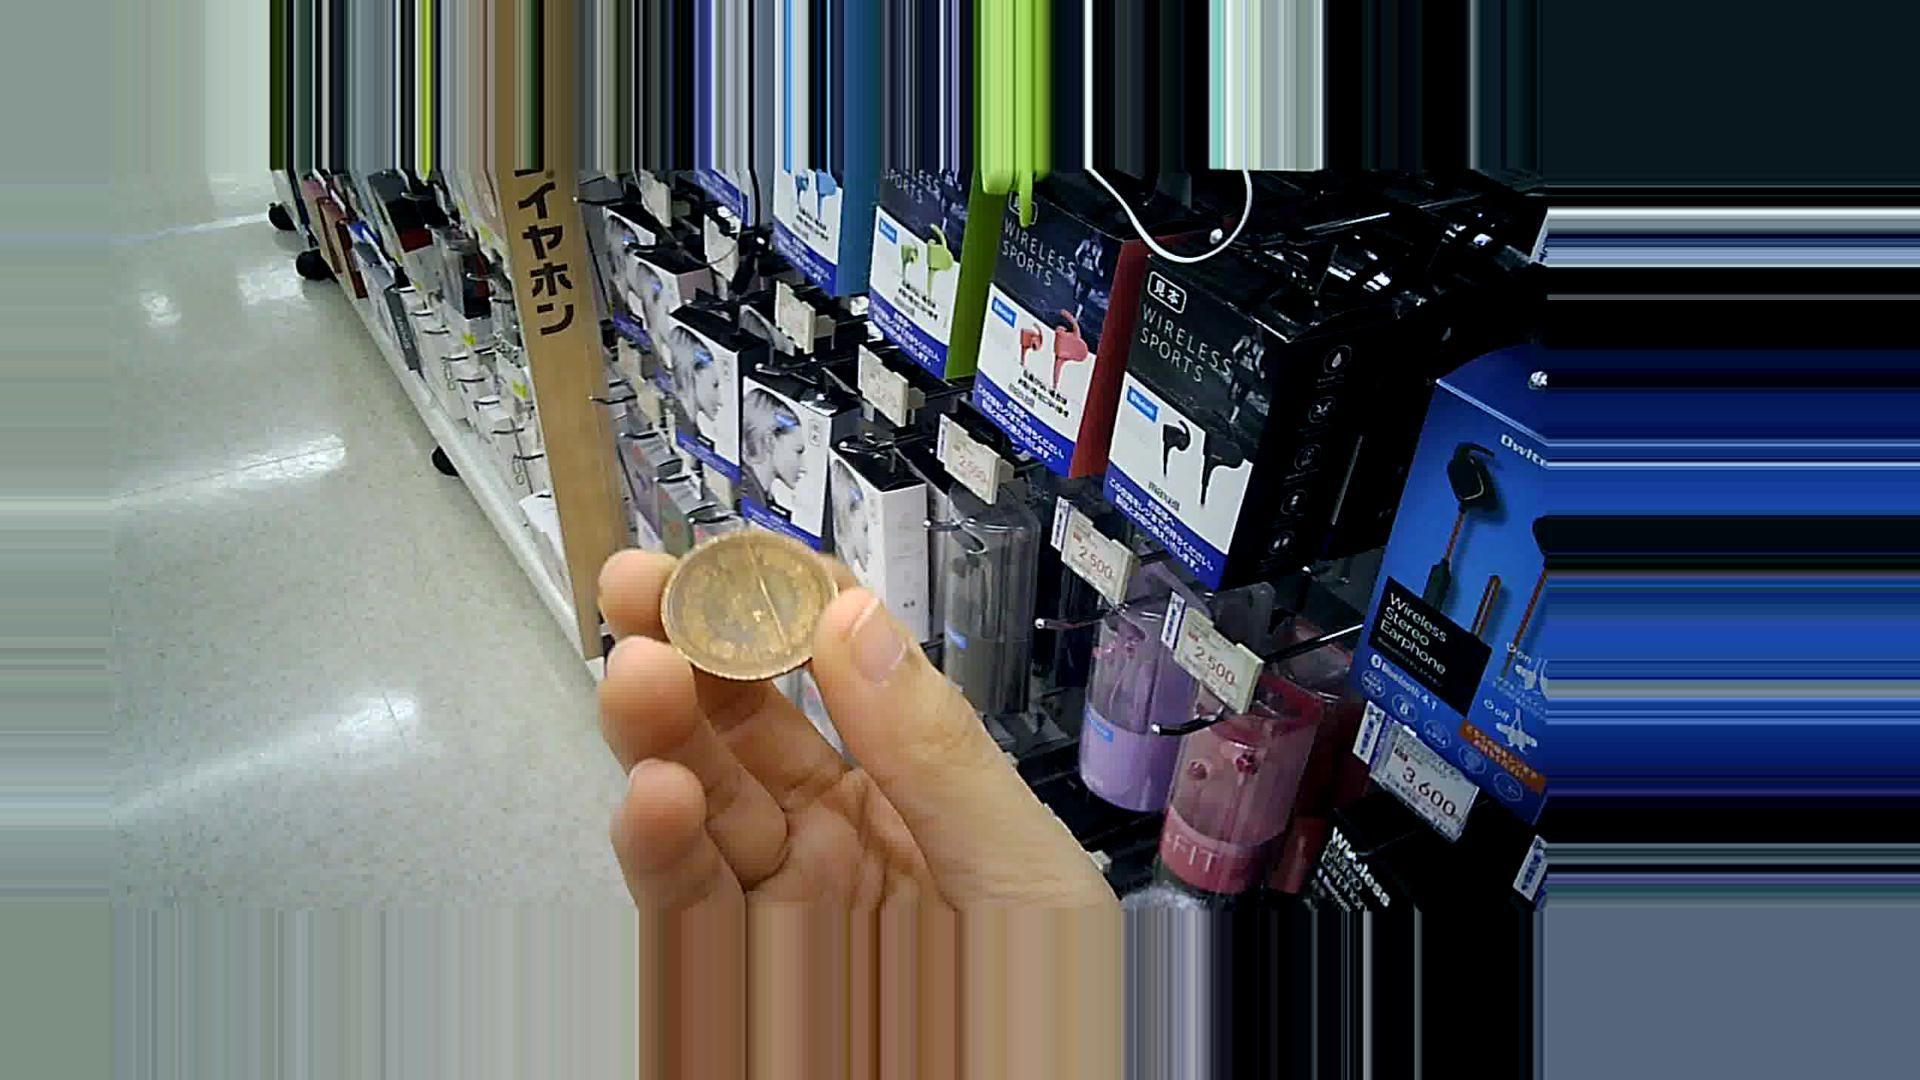10 Yen: (653, 527, 841, 676)
